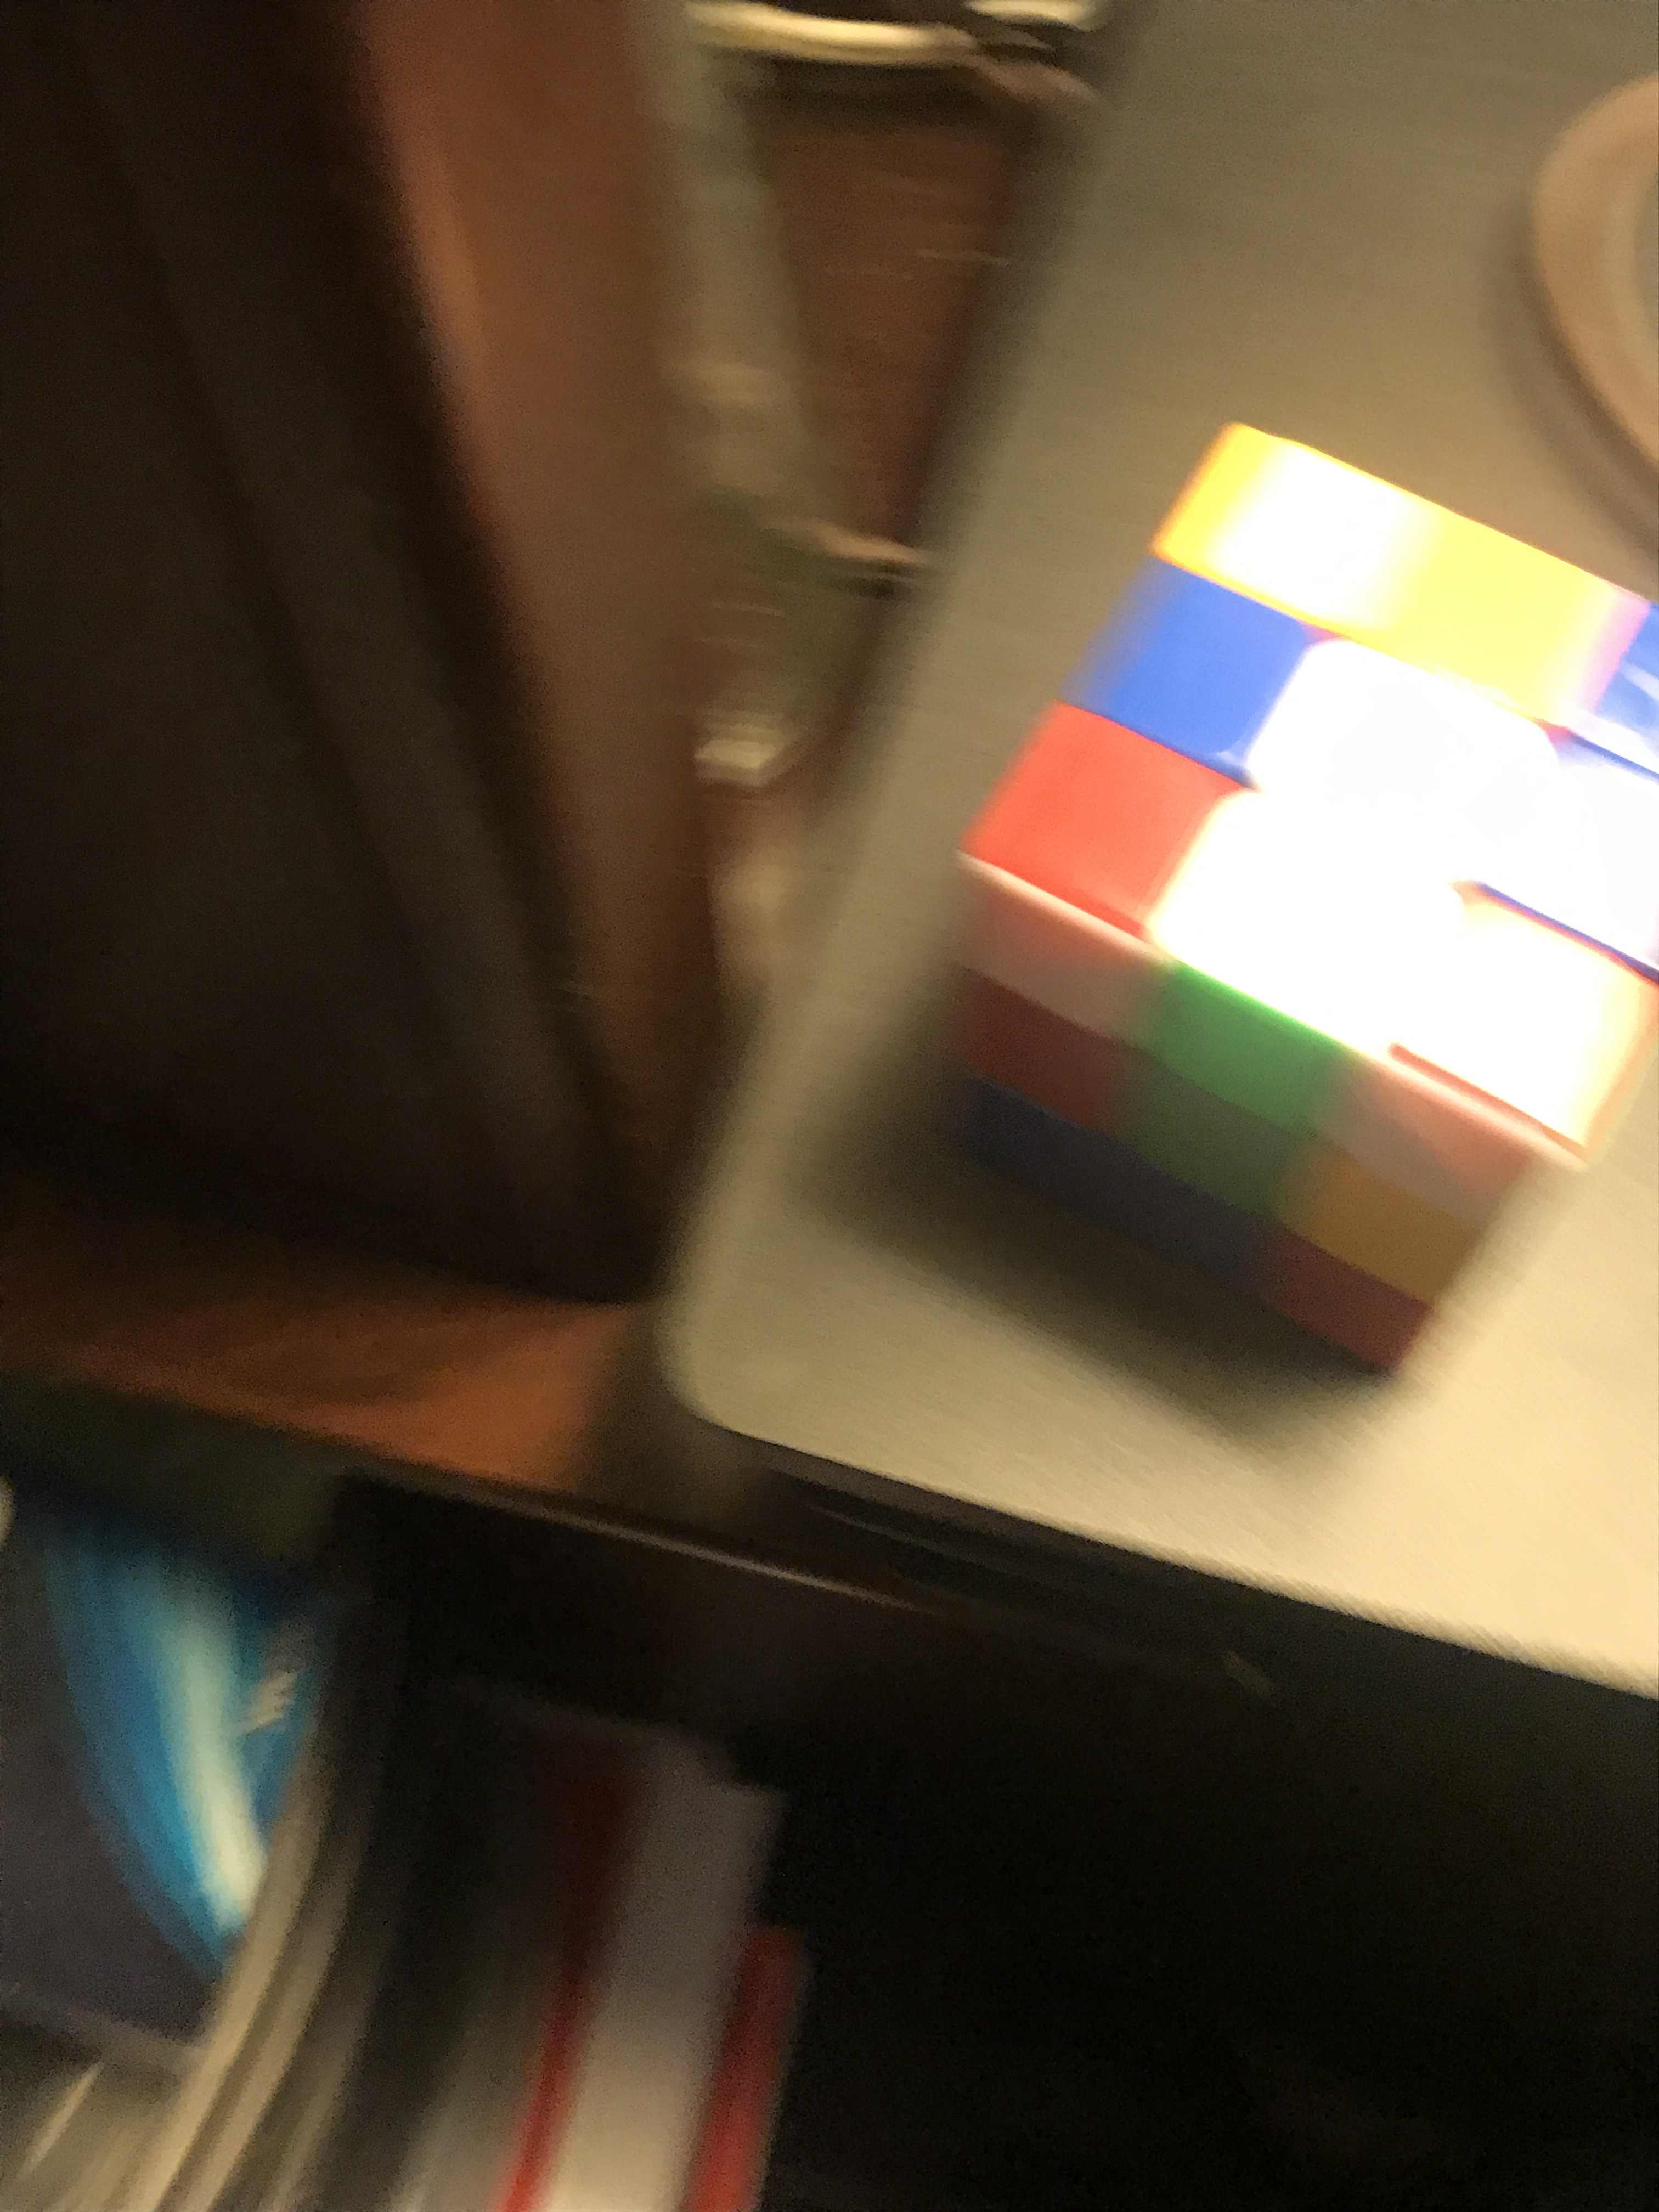rubiks: (960, 385, 1659, 1392)
